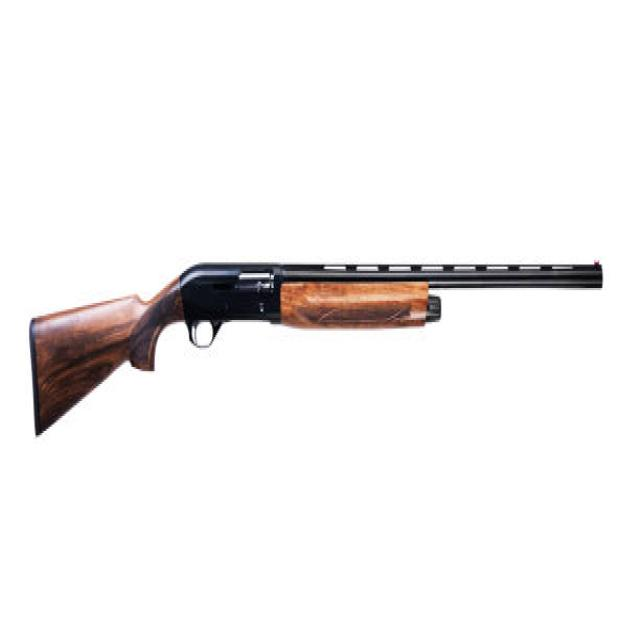rifle: (23, 258, 608, 446)
